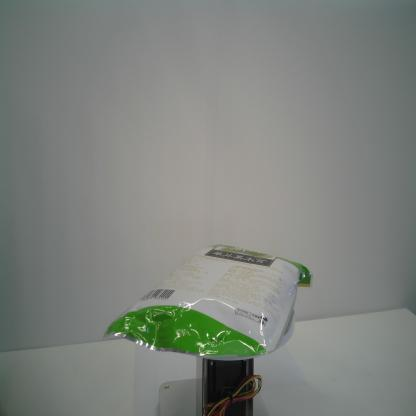Dried Food: (102, 240, 314, 364)
